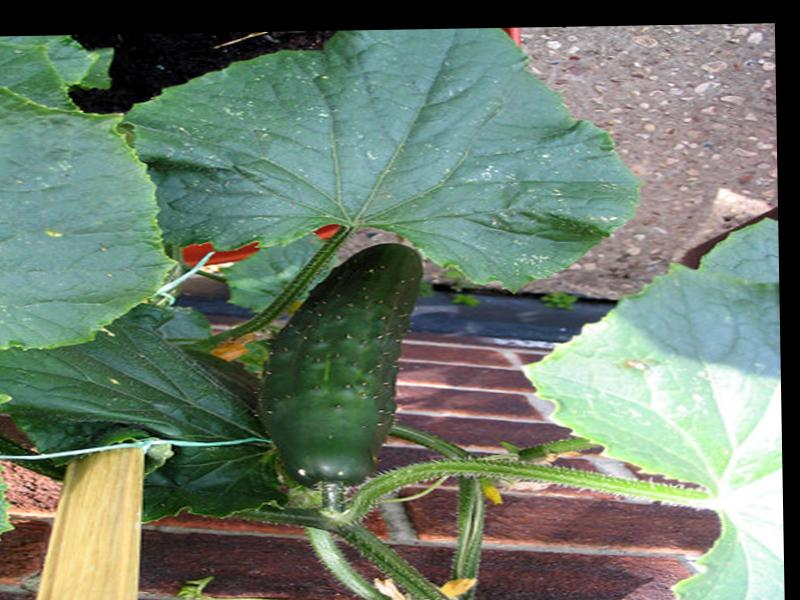Cucumber: (258, 242, 431, 488)
